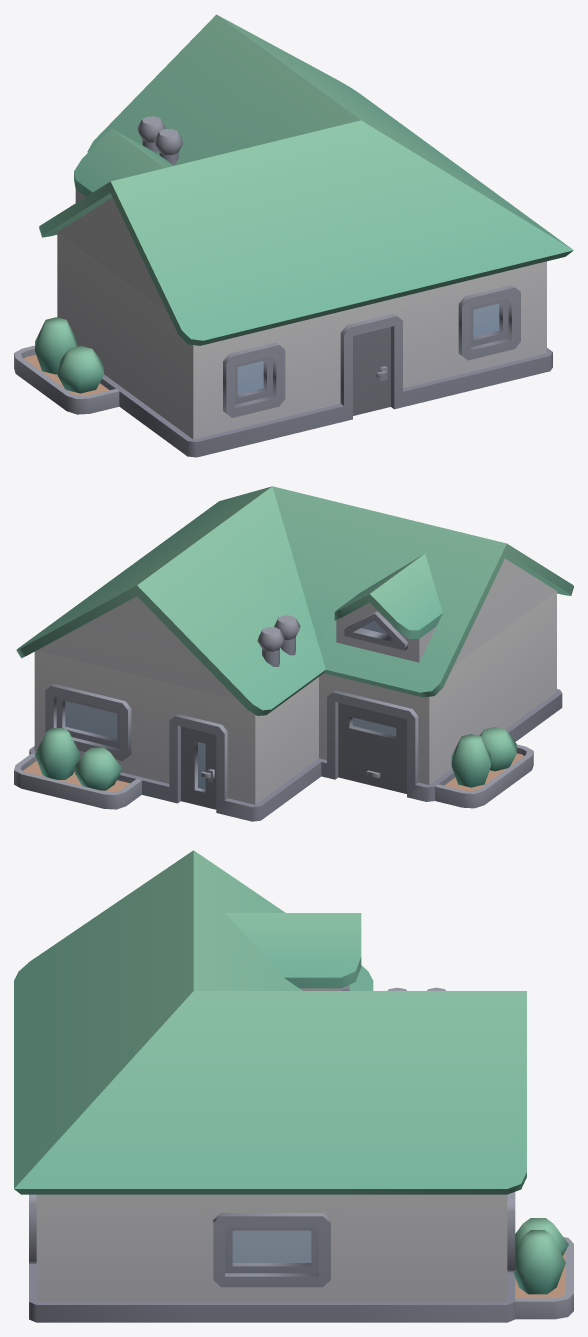
Rendered from building-type-m.glb.
3 views of the same model, one above another, from view 1: azimuth 30°, elevation 25°; view 2: azimuth 150°, elevation 25°; view 3: azimuth 270°, elevation 25° (orthographic). The views are drawn at different scales.
Parts seen in each view (by area): view 1: building-type-m; view 2: building-type-m; view 3: building-type-m.
Boxes of the visible parts, left/top/right/bottom form: building-type-m: left=14, top=14, right=573, bottom=457; building-type-m: left=14, top=486, right=573, bottom=821; building-type-m: left=14, top=850, right=573, bottom=1322.
Size of the model in its own units: 1.43 by 0.7375 by 1.43.
